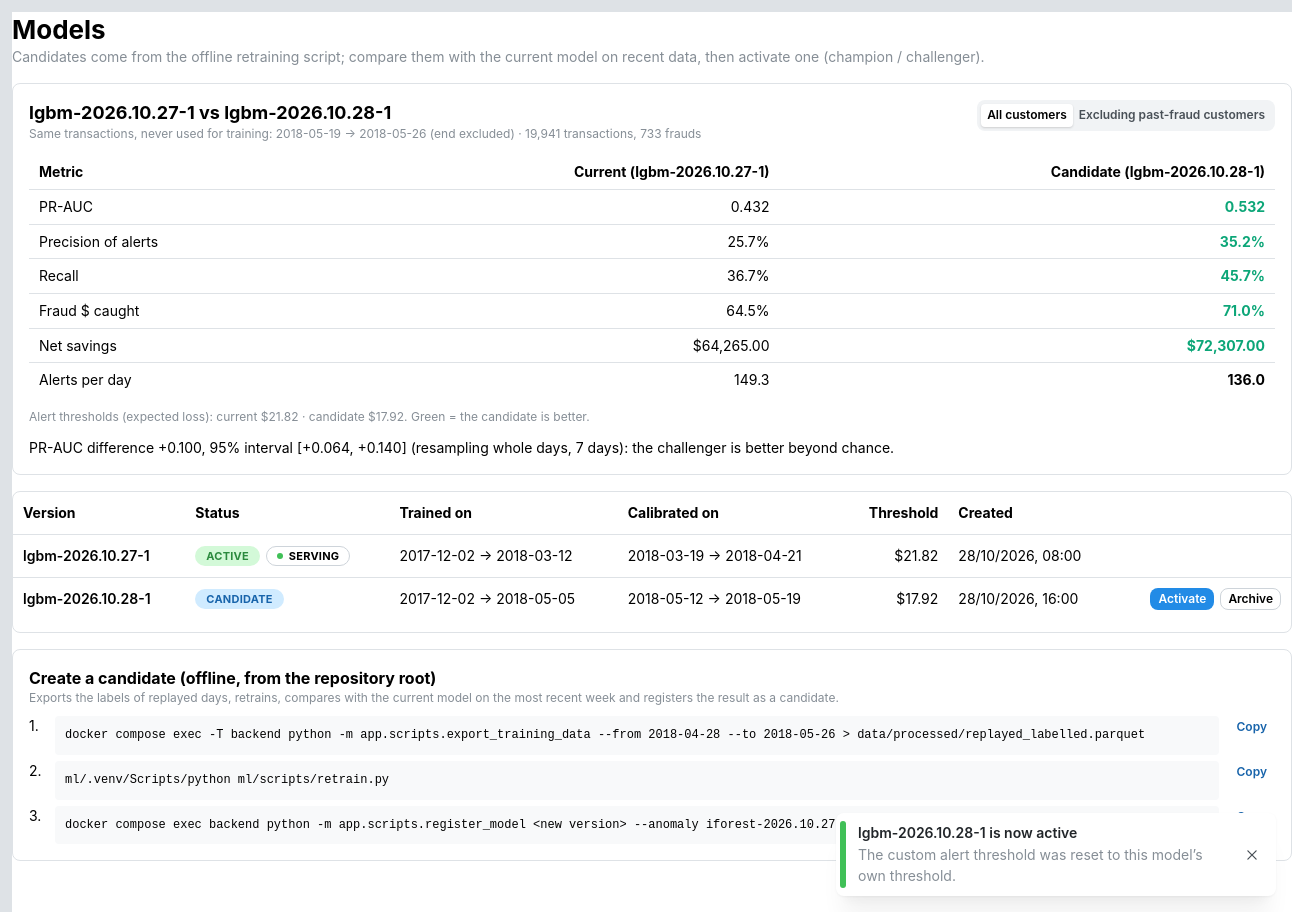
Scenario: ModelsPage › archives a candidate
Click the button "Archive". click: (1251, 599)
box: [1220,588,1281,610]
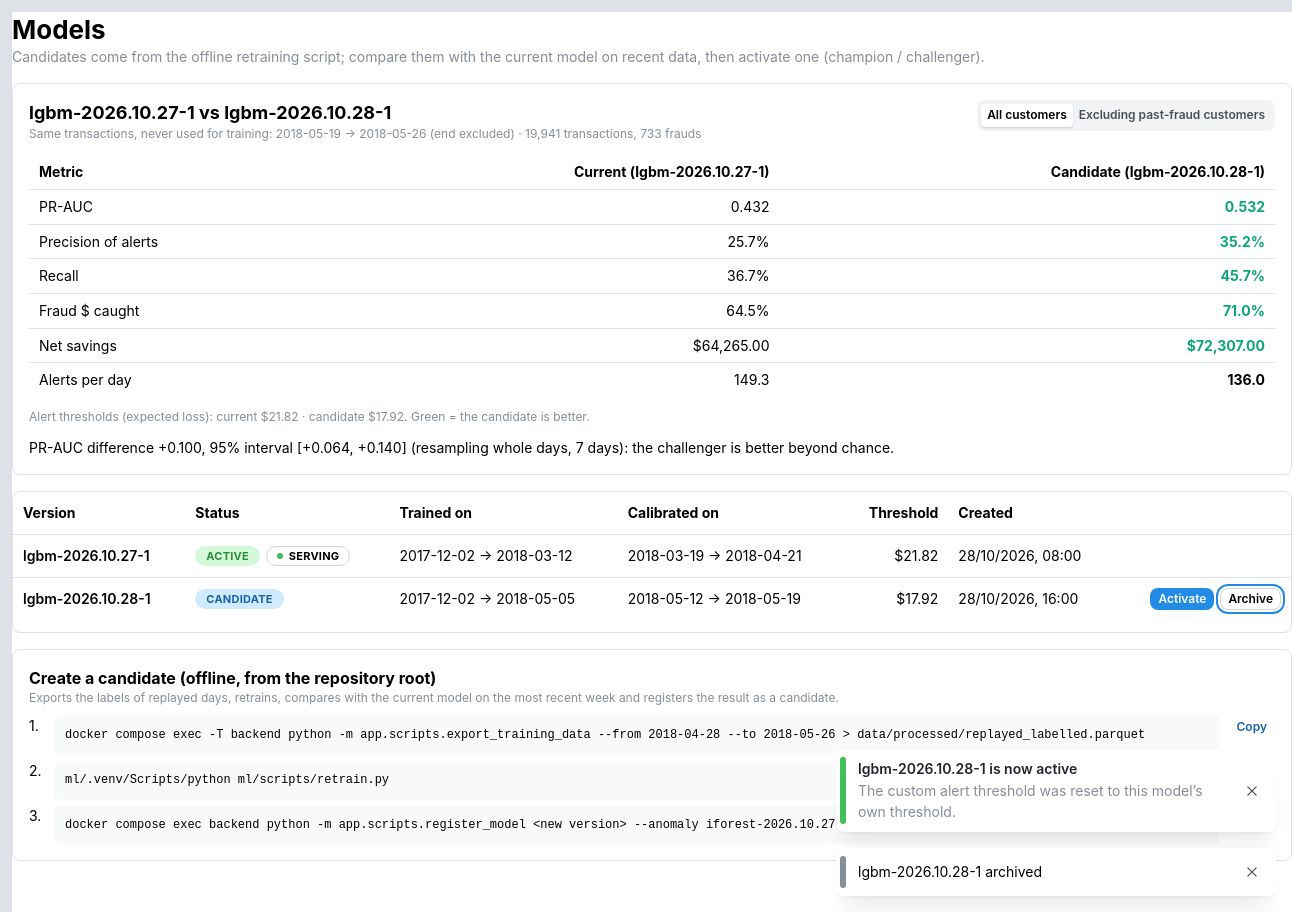
Result: the text "lgbm-2026.10.28-1 archived" is shown at [858,863,1042,880]
